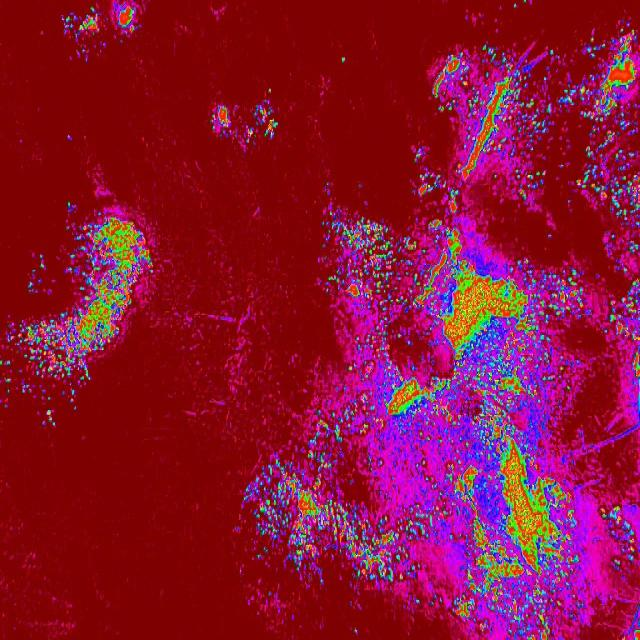fire: (333, 225, 584, 640), (430, 41, 546, 192), (240, 432, 334, 593), (576, 35, 640, 215), (66, 217, 152, 305), (4, 305, 124, 350), (5, 350, 90, 412), (602, 502, 640, 640), (608, 277, 640, 387), (245, 99, 278, 150), (67, 0, 105, 34), (112, 0, 140, 40), (207, 105, 234, 136)
